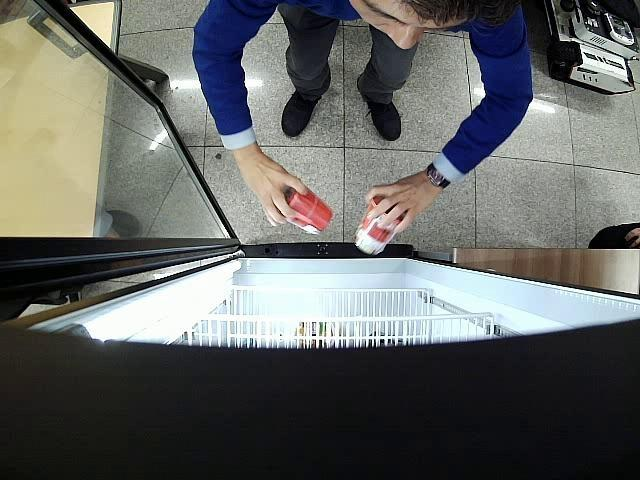02_shinRamen_S: (354, 196, 404, 253), (283, 186, 333, 236)
